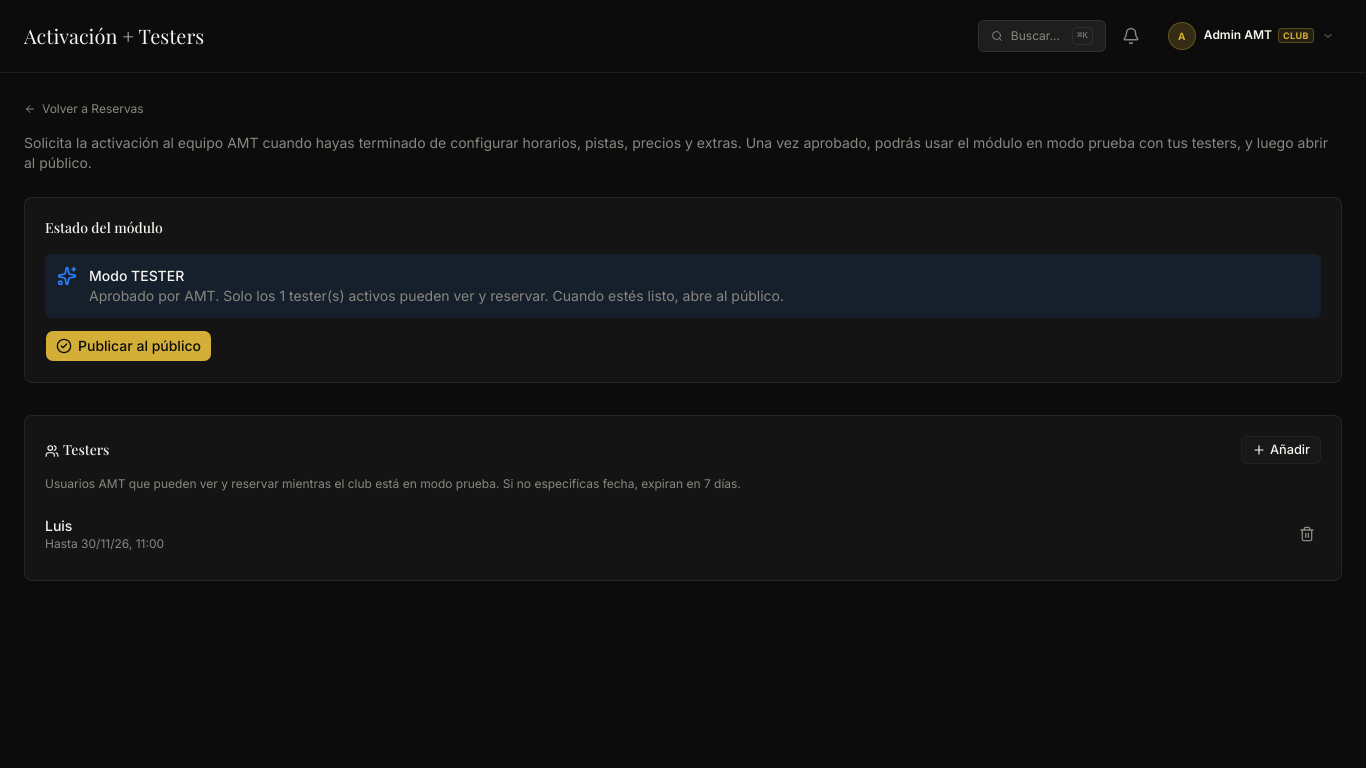
Test case: Activación + testers › quitar un tester también lo actualiza
expect the text "Solo los 1 tester(s)" is shown: met, box [89, 286, 784, 306]
Click the button titled "Eliminar": (1307, 534) [1293, 520, 1321, 548]
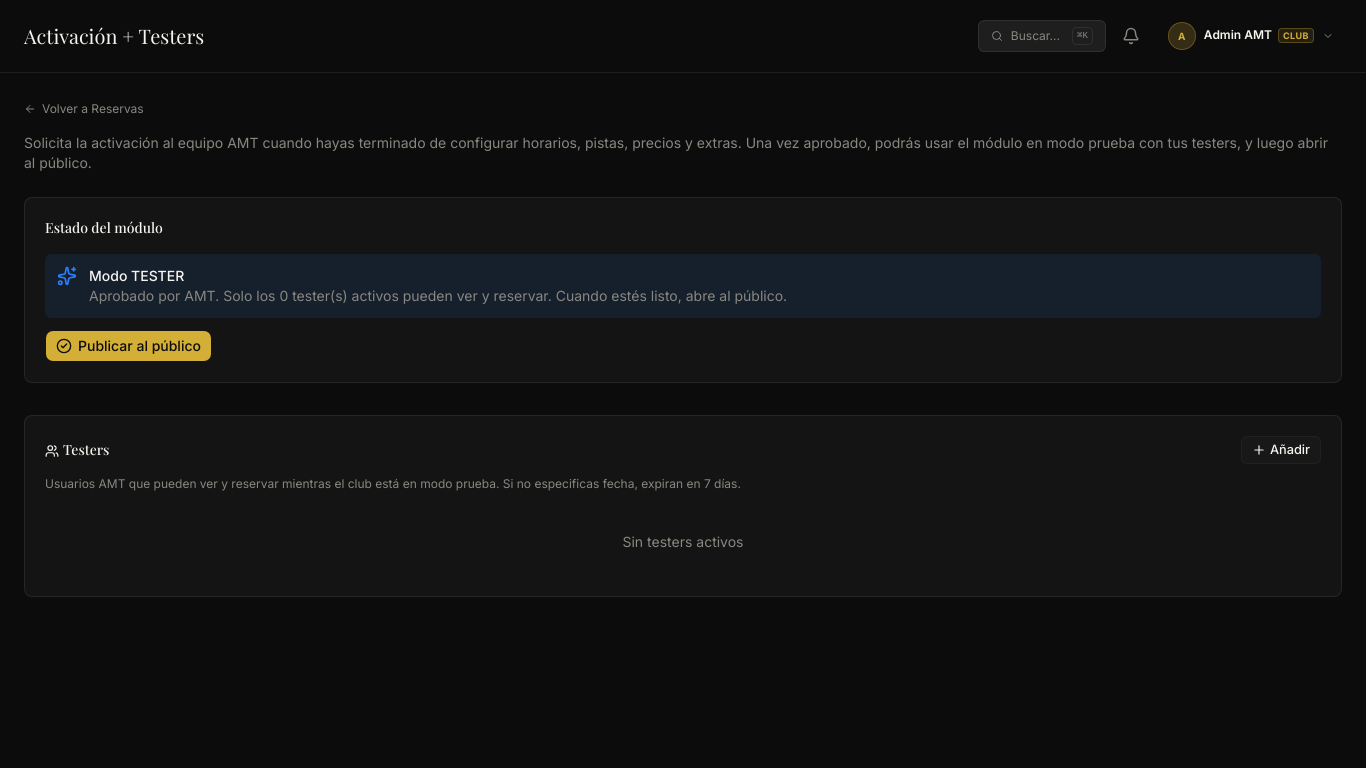
expect the text "Solo los 0 tester(s)" is shown: met, box [89, 286, 787, 306]
